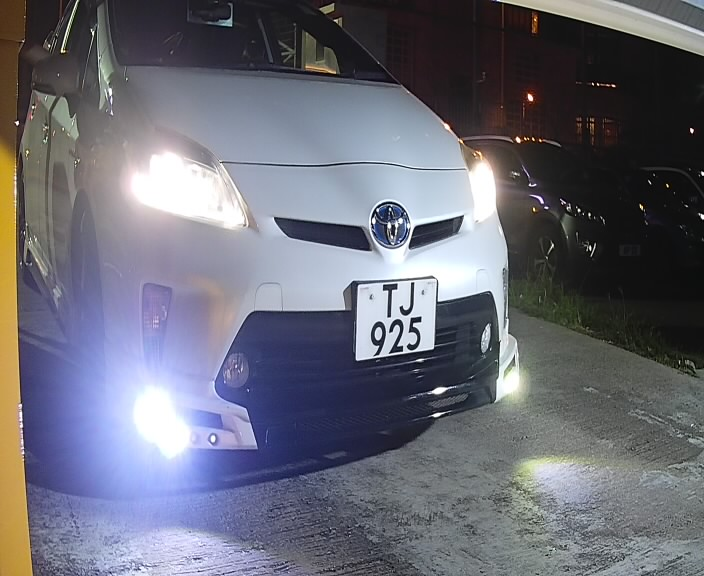Car: (8, 2, 528, 459)
License Plate: (340, 268, 445, 371)
